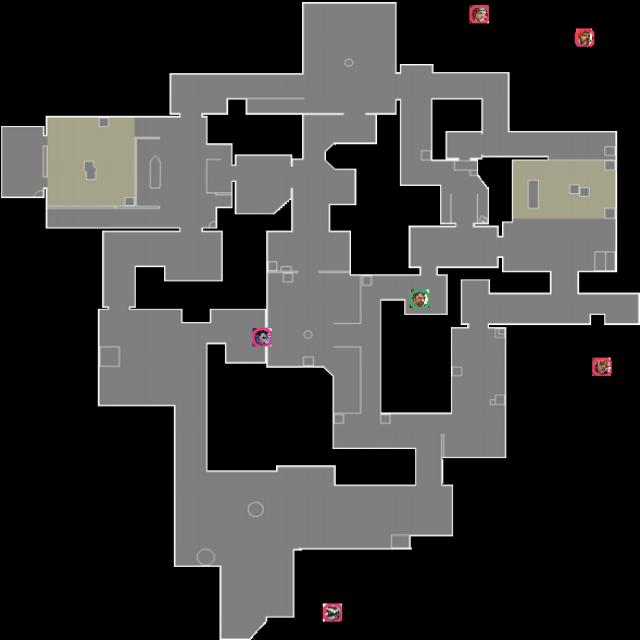atk_brimstone: (575, 28, 594, 47)
atk_cypher: (323, 603, 342, 622)
atk_raze: (592, 357, 612, 376)
atk_skye: (469, 5, 489, 23)
atk_yoru: (252, 328, 272, 347)
def_breach: (410, 289, 429, 308)
